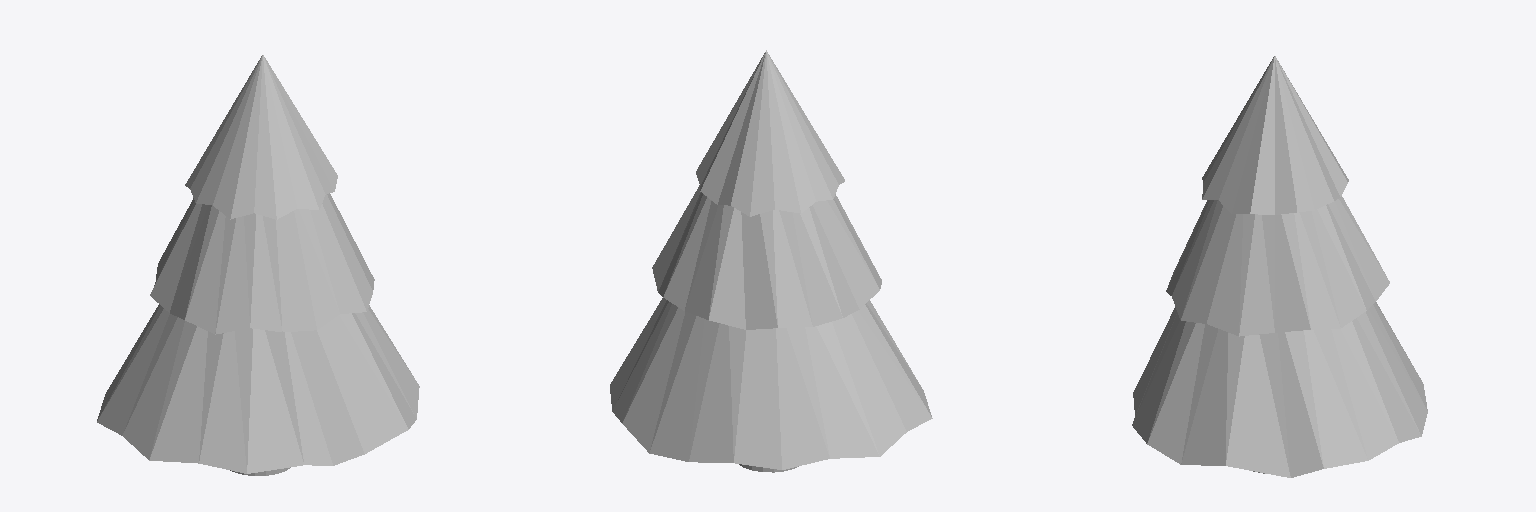
The model's file is gran.obj.
The picture shows the model from 3 angles: view 1: azimuth 30°, elevation 25°; view 2: azimuth 150°, elevation 25°; view 3: azimuth 270°, elevation 25°; orthographic projection.
Visible parts, largest first — view 1: pCone2; view 2: pCone2; view 3: pCone2.
Boxes of the visible parts, <box> form: pCone2: <box>97,55,419,475</box>; pCone2: <box>610,50,932,472</box>; pCone2: <box>1132,56,1427,477</box>.
Size of the model in its own units: 11.95 by 16.99 by 11.23.